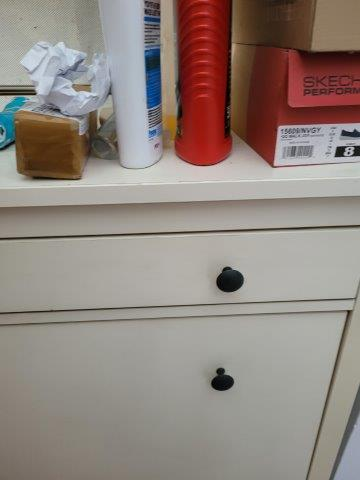kertas: (23, 37, 111, 116)
